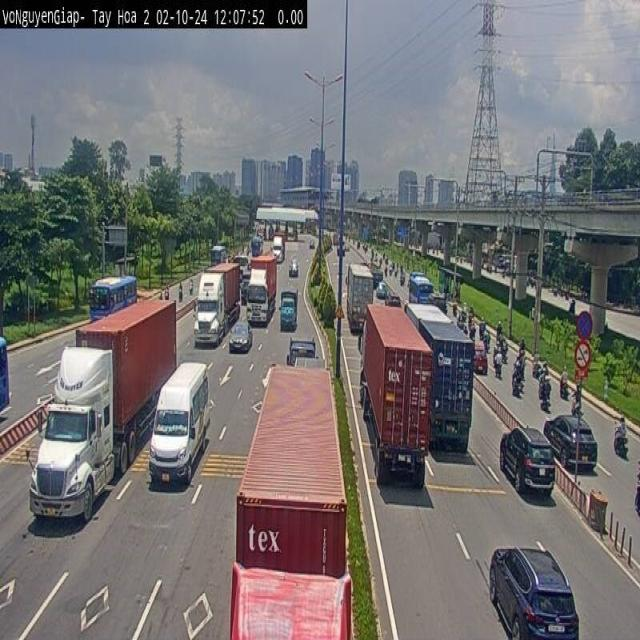bus: (91, 271, 136, 310), (0, 331, 13, 428), (406, 272, 434, 302), (251, 230, 264, 258)
car: (486, 551, 581, 640), (152, 363, 211, 488), (499, 422, 556, 504), (548, 416, 595, 467), (473, 336, 490, 382), (230, 324, 253, 354), (377, 279, 388, 297), (290, 255, 298, 276), (309, 237, 316, 250)
container-truck: (230, 364, 355, 640), (32, 316, 131, 519), (359, 305, 432, 492), (415, 311, 471, 469), (194, 256, 232, 348), (250, 258, 274, 327), (272, 232, 285, 269)
motorcycle: (614, 432, 629, 458), (541, 393, 552, 415), (512, 374, 522, 396), (560, 378, 570, 400), (493, 362, 505, 379), (178, 290, 183, 301), (165, 288, 169, 300), (189, 286, 193, 296)
person: (495, 345, 504, 369), (515, 357, 522, 382), (620, 411, 626, 437), (545, 376, 552, 398), (574, 384, 581, 405), (497, 317, 502, 338), (481, 314, 486, 332), (520, 338, 526, 353), (563, 363, 567, 383)
truck: (347, 259, 374, 329), (281, 287, 299, 330), (292, 336, 316, 364)
